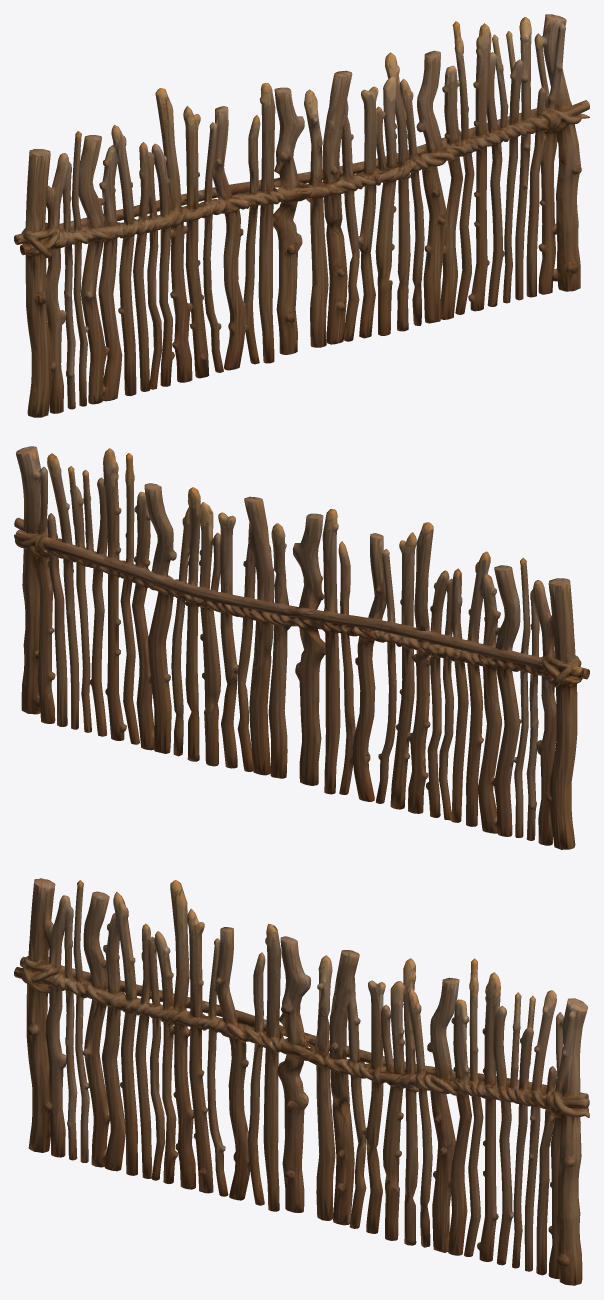
File: Enclos2.fbx
3 renders of one model, top to bottom at view 1: azimuth 30°, elevation 25°; view 2: azimuth 150°, elevation 25°; view 3: azimuth 330°, elevation 25°, orthographic.
Parts seen in each view (by area): view 1: texture_pbr_v128; view 2: texture_pbr_v128; view 3: texture_pbr_v128.
Part boxes in pixels (x1,y1,x2,y2): texture_pbr_v128: (14,14,589,417); texture_pbr_v128: (14,446,589,849); texture_pbr_v128: (14,878,589,1285).
Bounding box in the file's own units: 111 × 55.41 × 7.86.
Materials: 1 (1 with a texture image).
